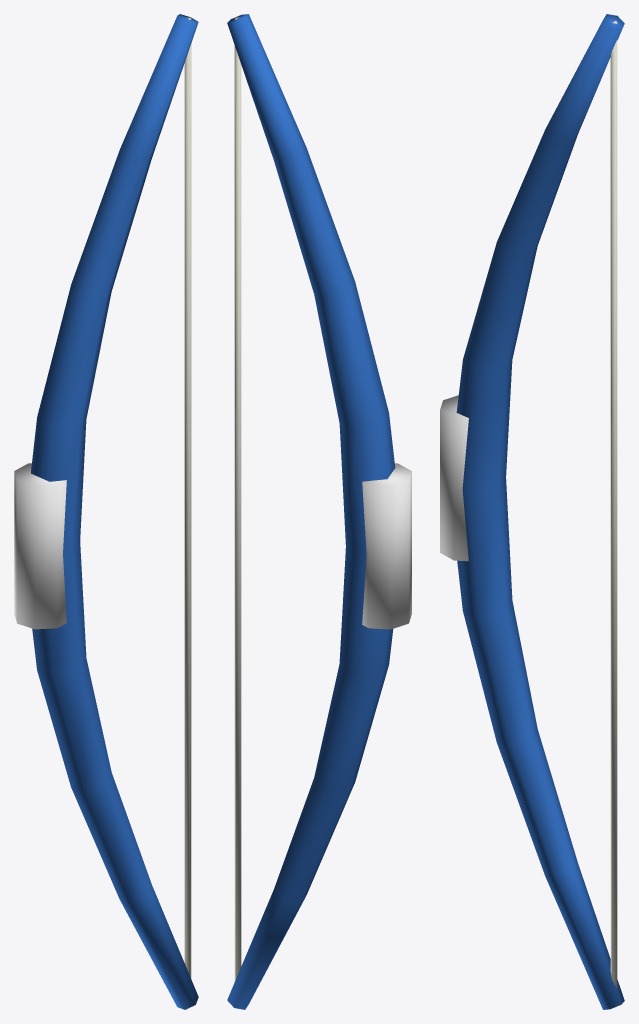
File: cerulite_bow.glb
The picture shows the model from 3 angles, left to right: view 1: azimuth 30°, elevation 25°; view 2: azimuth 150°, elevation 25°; view 3: azimuth 330°, elevation 25°; orthographic projection.
Parts seen in each view (by area): view 1: cerulite_bow_v0; view 2: cerulite_bow_v0; view 3: cerulite_bow_v0.
Boxes of the visible parts, x1,y1,x2,y2 form: cerulite_bow_v0: (14,14,198,1009); cerulite_bow_v0: (227,14,411,1009); cerulite_bow_v0: (440,14,624,1009).
Size of the model in its own units: 0.2105 by 1.11 by 0.06.
